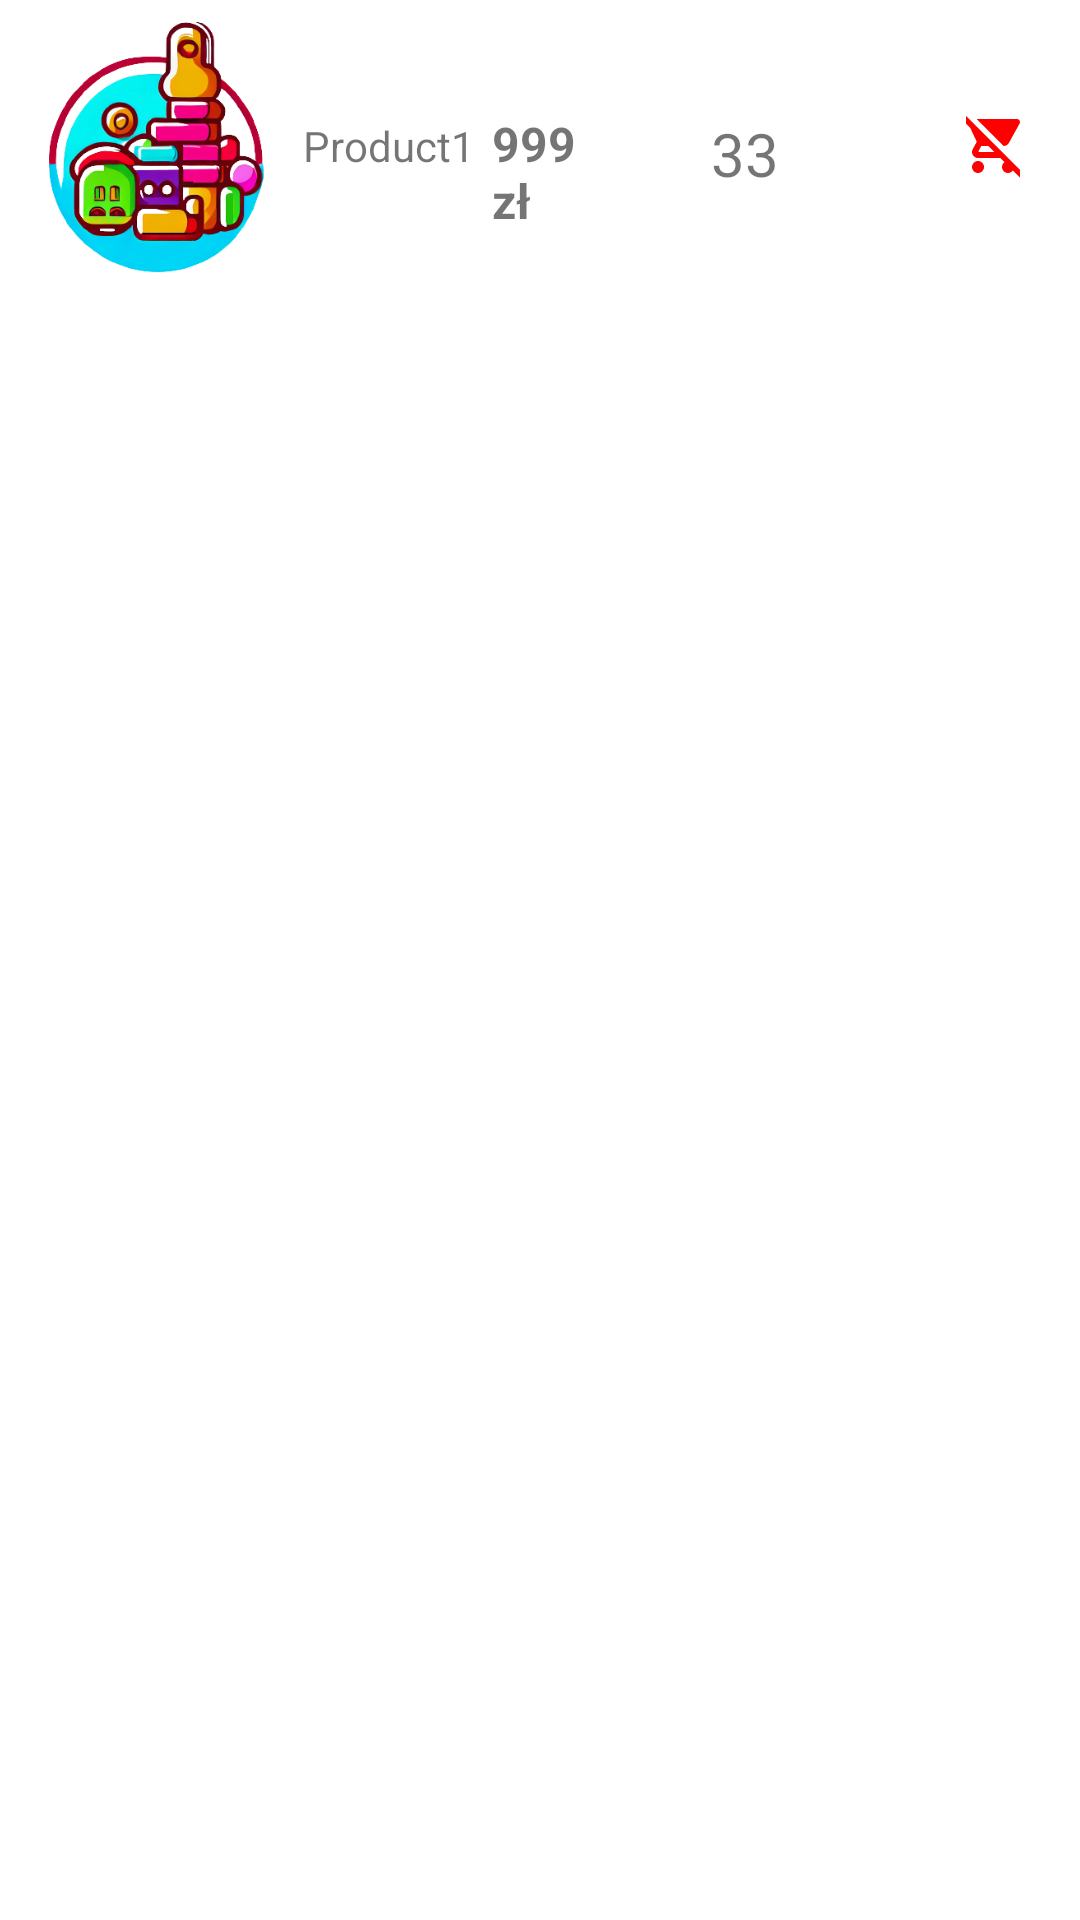

Screen size 1080 x 1920. Icon name, then its box in pixels as [left=x1, top=y1, right=x2, bottom=y2]:
remove shopping cart: [left=966, top=116, right=1020, bottom=178]
